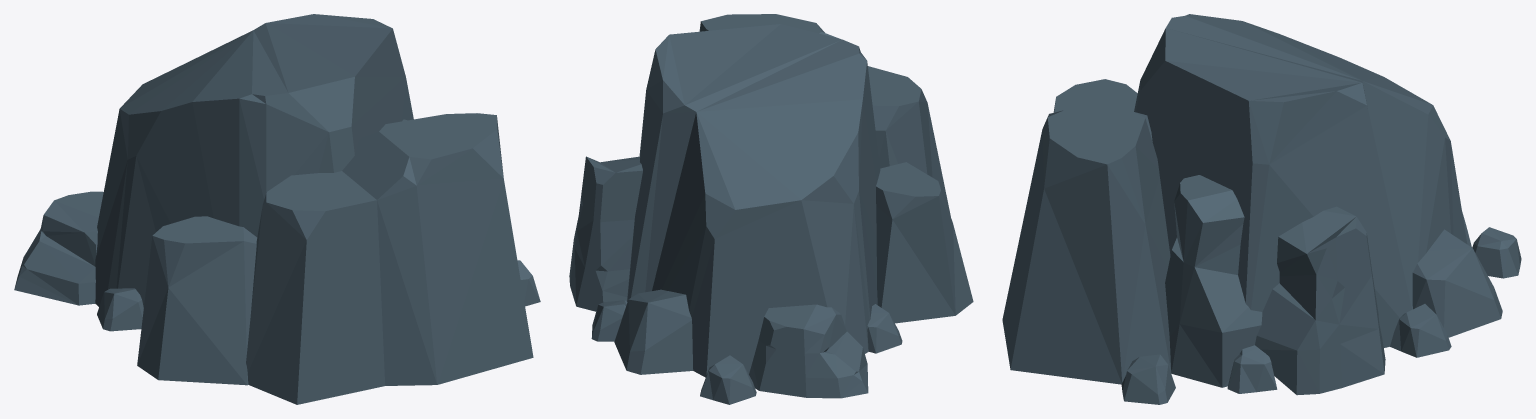
The model's file is Rock_1 Asia.fbx.
3 views of the same model, side by side, from view 1: azimuth 30°, elevation 25°; view 2: azimuth 150°, elevation 25°; view 3: azimuth 270°, elevation 25° (orthographic). The views are drawn at different scales.
Visible parts, largest first — view 1: Rock_1; view 2: Rock_1; view 3: Rock_1.
Part boxes in pixels (bbox=[...]): Rock_1: bbox=[14, 14, 540, 404]; Rock_1: bbox=[569, 14, 973, 404]; Rock_1: bbox=[1002, 14, 1521, 404].
Bounding box in the file's own units: 6.34 × 3.9 × 7.12.
